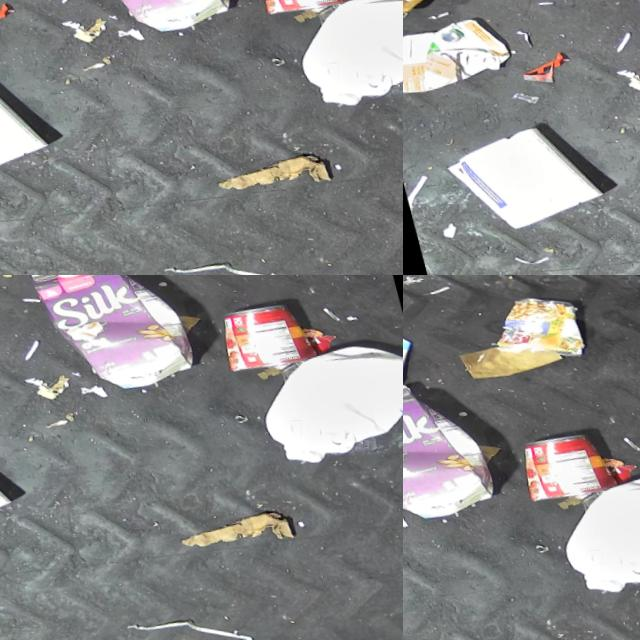can: (209, 279, 318, 370), (510, 409, 619, 500), (483, 275, 587, 363)
milk_jug: (243, 307, 403, 467), (544, 437, 640, 597), (280, 0, 403, 110)
non_white_jug: (23, 275, 201, 400), (403, 353, 502, 530), (403, 1, 512, 106), (60, 0, 238, 43)
